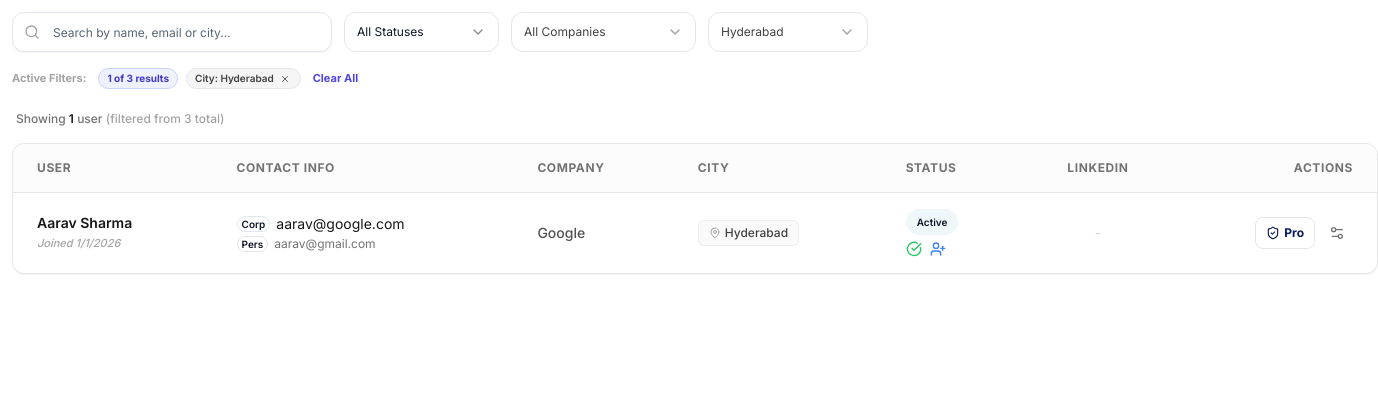
Test: Admin UsersTab Component - City Filter › resets city filter on clicking Clear All
The image size is (1378, 410).
Earlier steps of the test are not shown.
What coordinates should you click on to do the following:
click the button "Clear All"
I would click on:
 (335, 79)
Its box is [313,70,358,87].
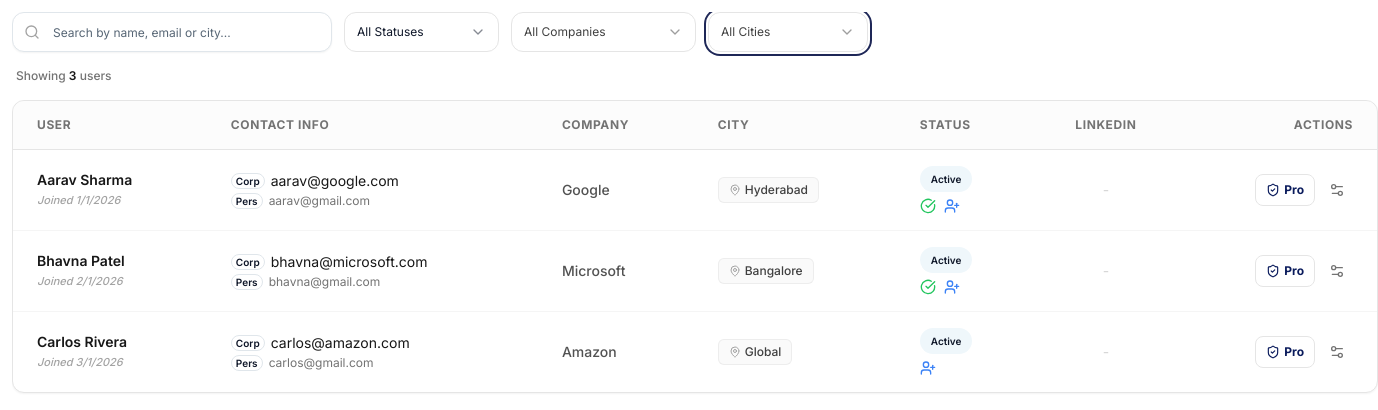
Expected: the text "Aarav Sharma" is shown, [37,170,132,190]
Now the text "Bhavna Patel" is shown, box [37,251,125,271]
Now the text "Carlos Rivera" is shown, box [37,332,127,352]
